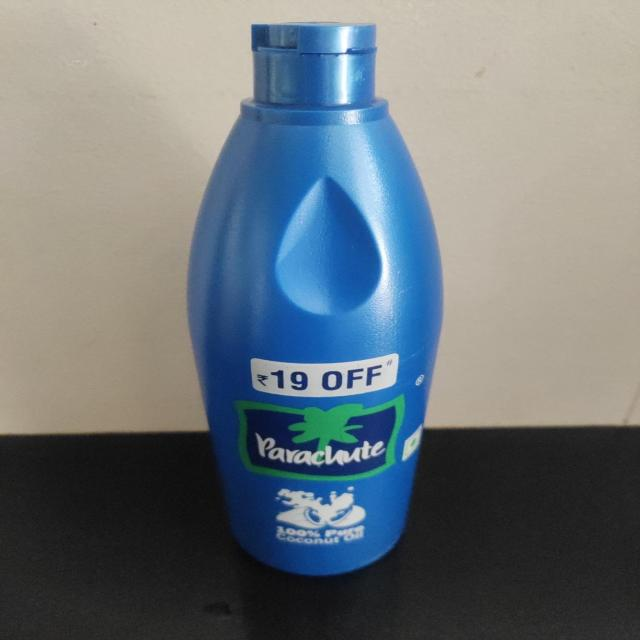parachute_oil: (172, 14, 456, 586)
